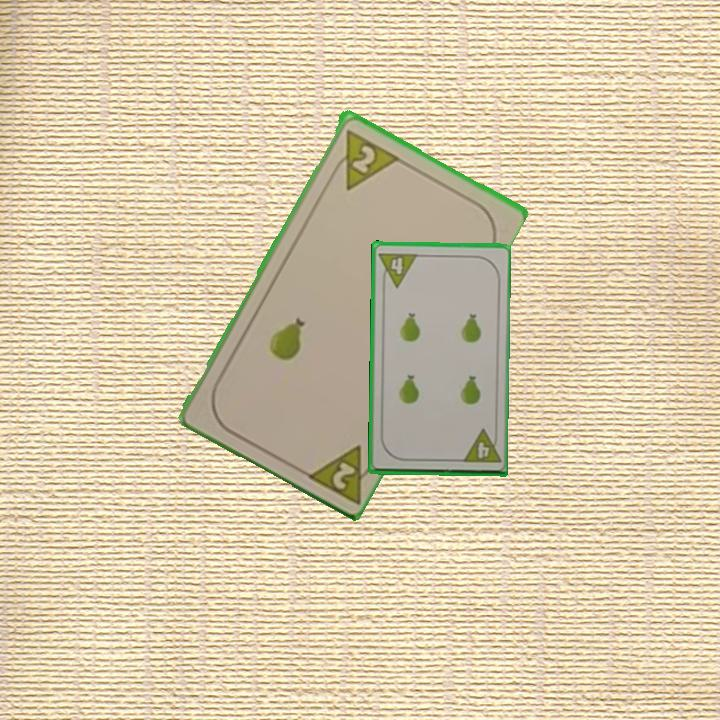2p: (300, 440, 381, 506), (324, 125, 400, 193)
4p: (375, 248, 420, 290), (458, 426, 502, 466)
